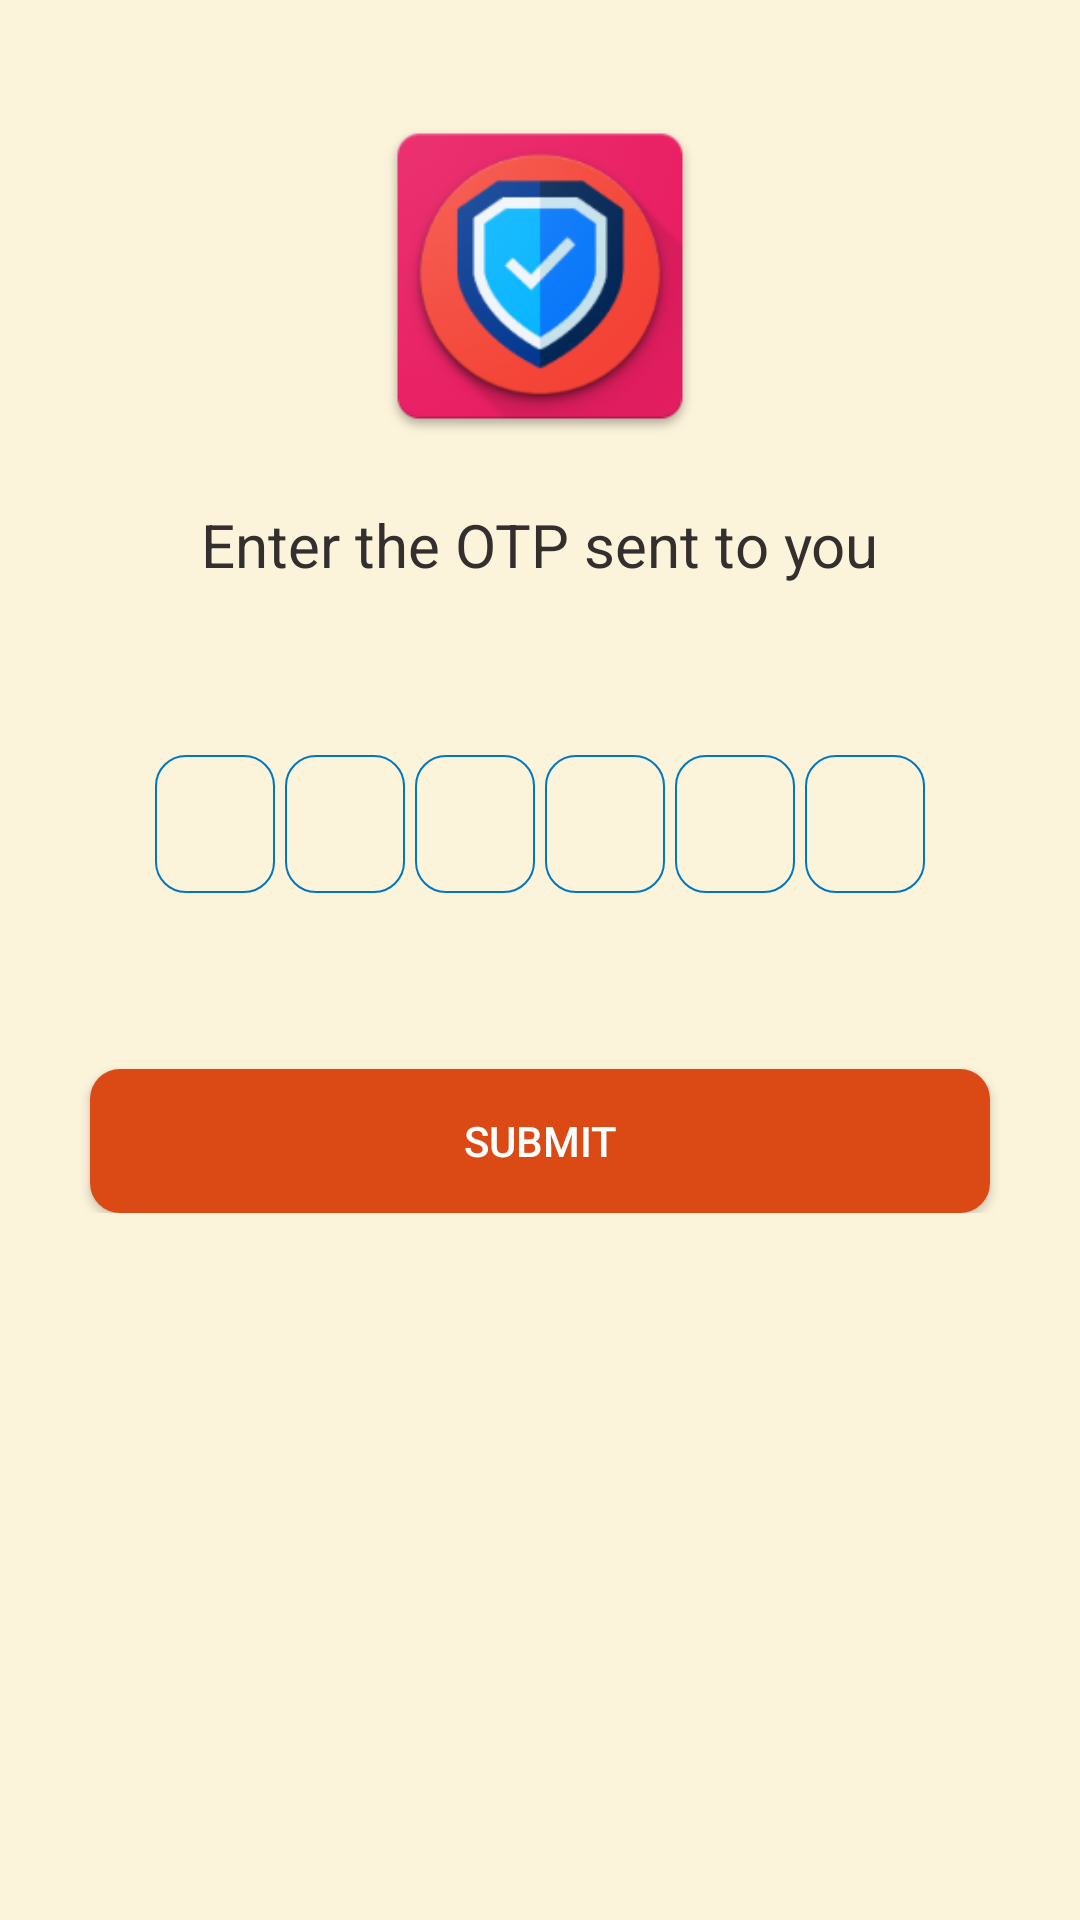

Named icons in this screenshot (1080px×1920px) and their bounding boxes, [x1,y1,x2,y2]:
otp verified: [395,133,685,426]
